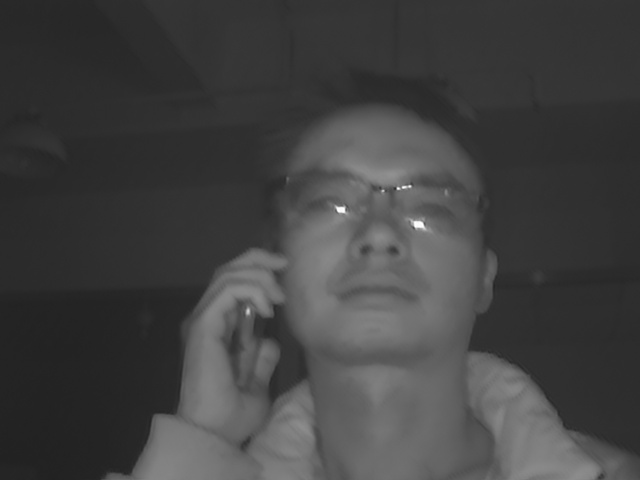hand: (174, 247, 285, 442)
